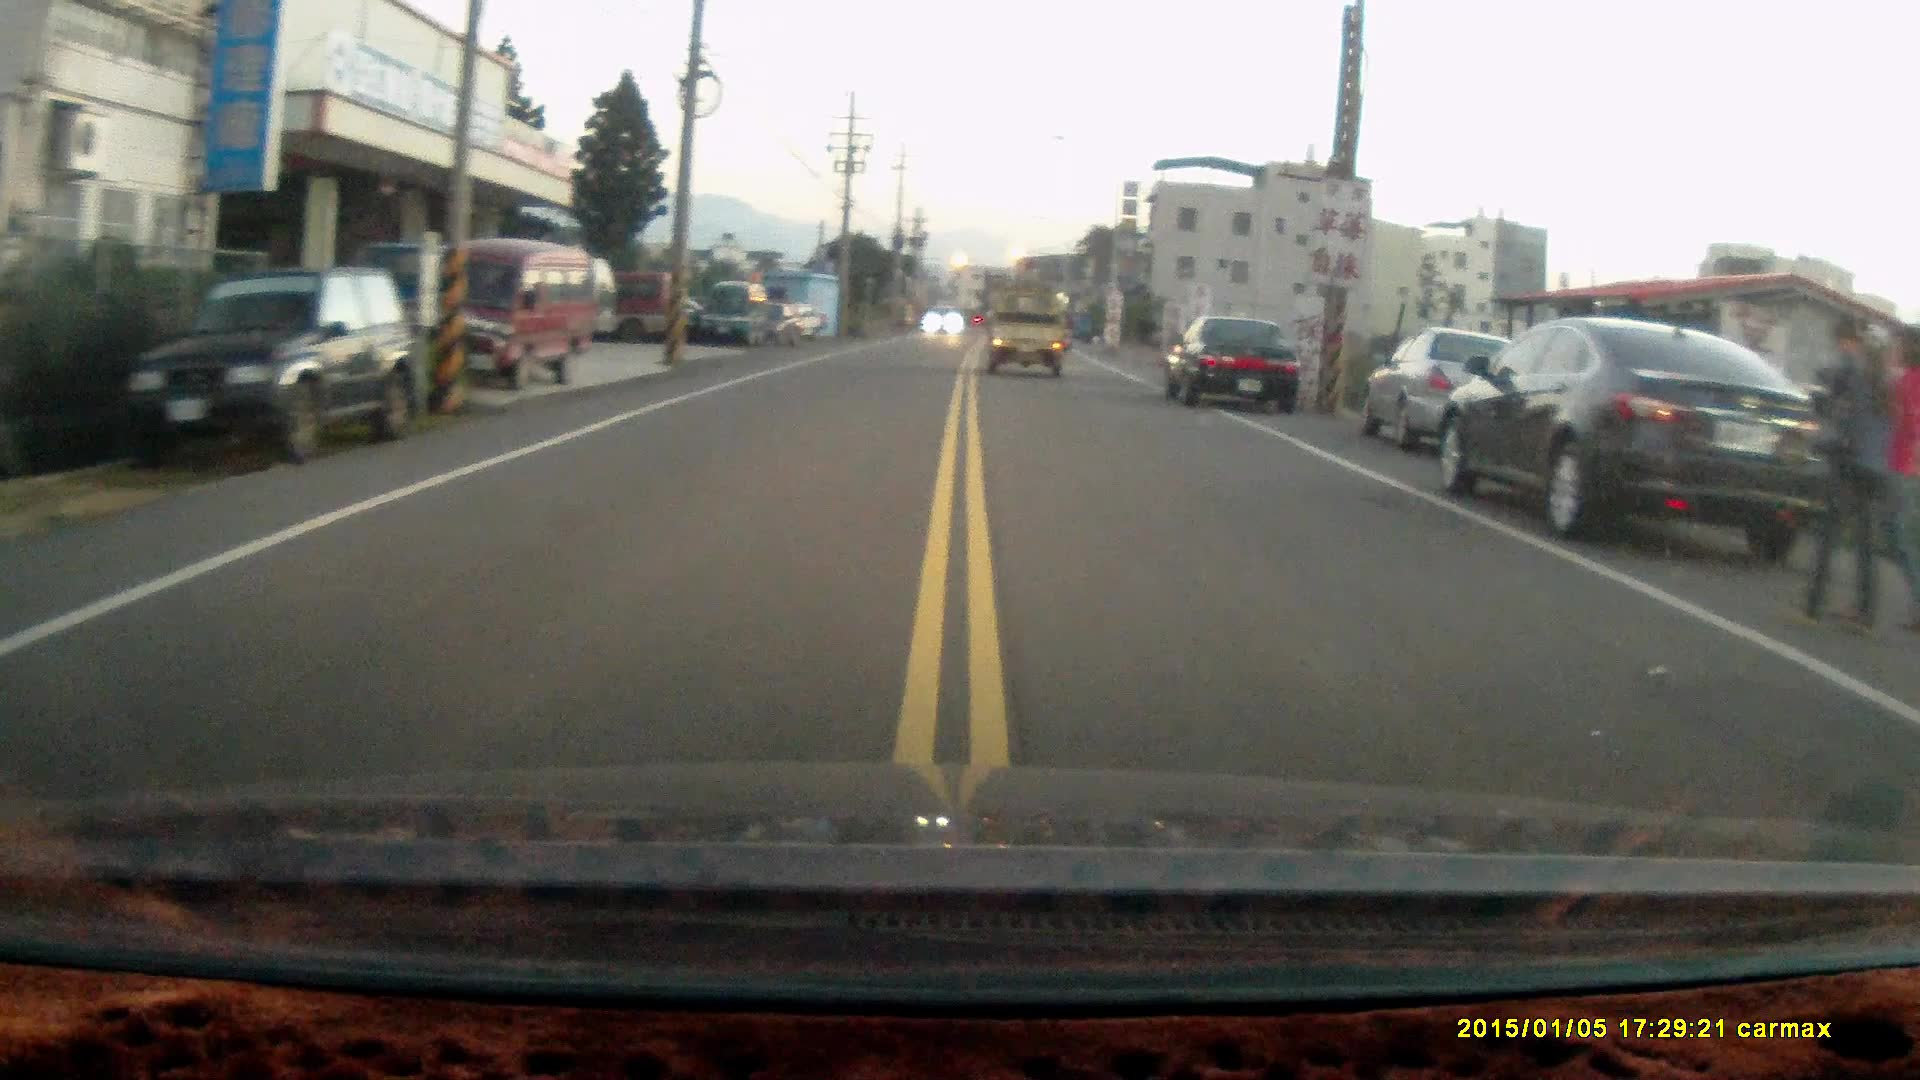pedestrian: (1787, 319, 1892, 639), (1852, 322, 1920, 633)
vehicle: (1436, 321, 1862, 566), (128, 271, 418, 469), (402, 244, 605, 389), (1357, 329, 1529, 461), (1159, 312, 1306, 416), (990, 292, 1073, 380), (700, 283, 772, 349)
